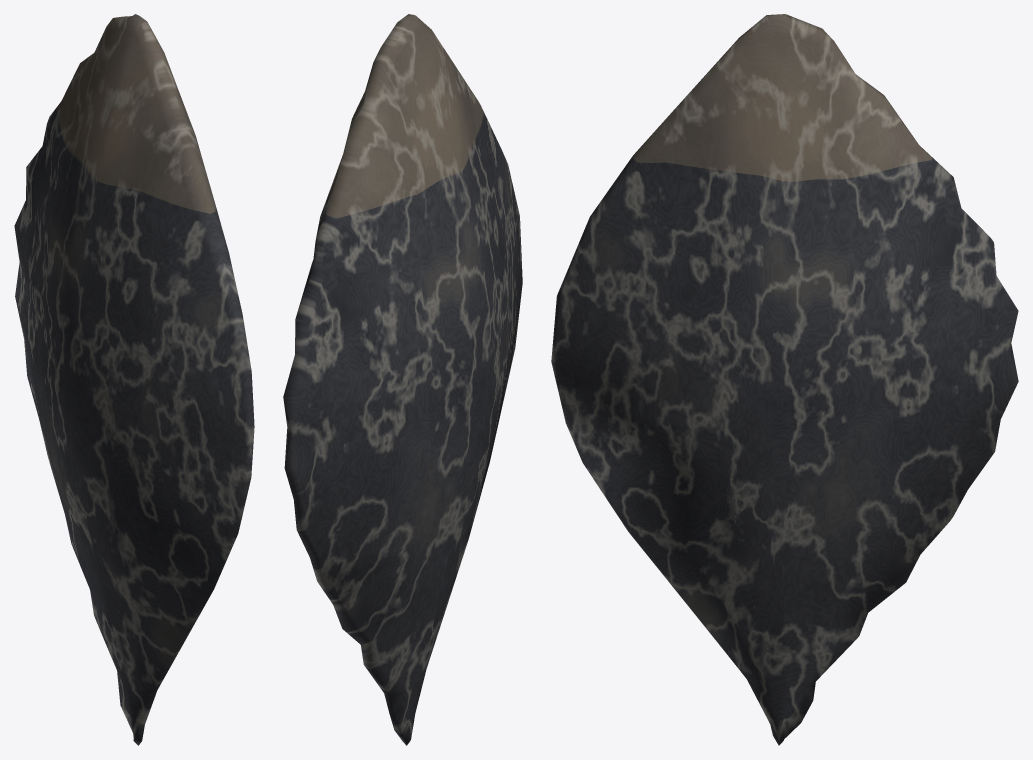
The model's file is flint_sharp_lod1.glb.
3 views of the same model, side by side, from view 1: azimuth 30°, elevation 25°; view 2: azimuth 150°, elevation 25°; view 3: azimuth 270°, elevation 25° (orthographic).
Visible parts, largest first — view 1: Flint_Sharp.001; view 2: Flint_Sharp.001; view 3: Flint_Sharp.001.
Boxes of the visible parts, x1=… form: Flint_Sharp.001: x1=14, y1=14, x2=254, y2=745; Flint_Sharp.001: x1=283, y1=14, x2=522, y2=745; Flint_Sharp.001: x1=551, y1=14, x2=1018, y2=745.
Size of the model in its own units: 0.0326 by 0.1567 by 0.0907.
1 material, 1 textured.
